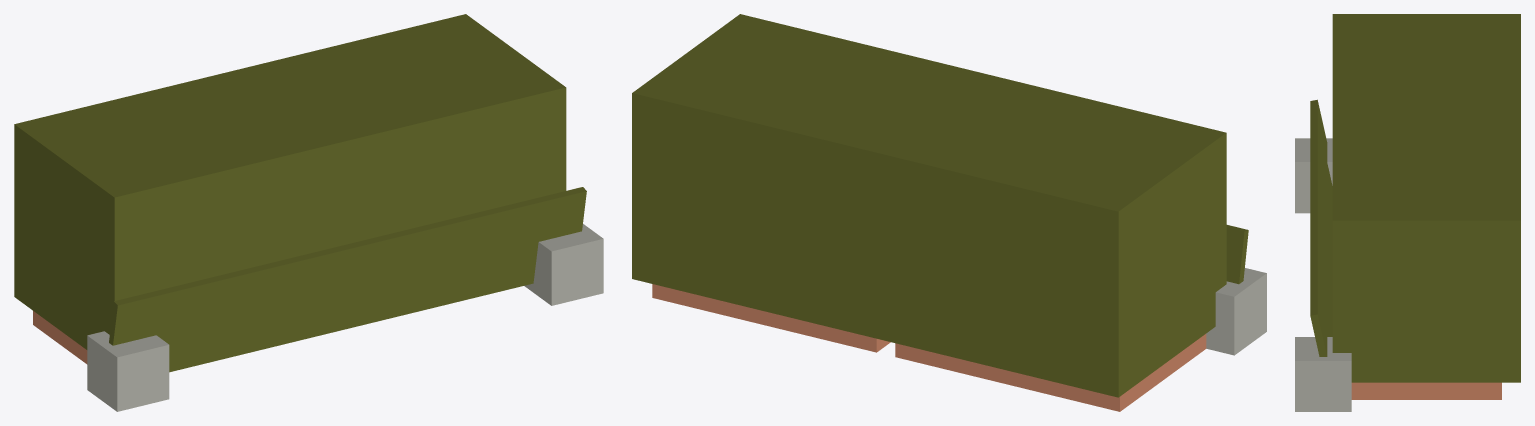
The model's file is SM_Bidones_v3_Lona_LOD0.fbx.
3 views of the same model, side by side, from view 1: azimuth 30°, elevation 25°; view 2: azimuth 150°, elevation 25°; view 3: azimuth 270°, elevation 25° (orthographic). The views are drawn at different scales.
Parts seen in each view (by area): view 1: SM_sagunto_vivo_v3_LOD0; view 2: SM_sagunto_vivo_v3_LOD0; view 3: SM_sagunto_vivo_v3_LOD0.
Boxes of the visible parts, x1=… form: SM_sagunto_vivo_v3_LOD0: x1=14, y1=14, x2=603, y2=411; SM_sagunto_vivo_v3_LOD0: x1=632, y1=14, x2=1266, y2=411; SM_sagunto_vivo_v3_LOD0: x1=1295, y1=14, x2=1520, y2=411.
Bounding box in the file's own units: 2.8 × 1.08 × 1.2.
